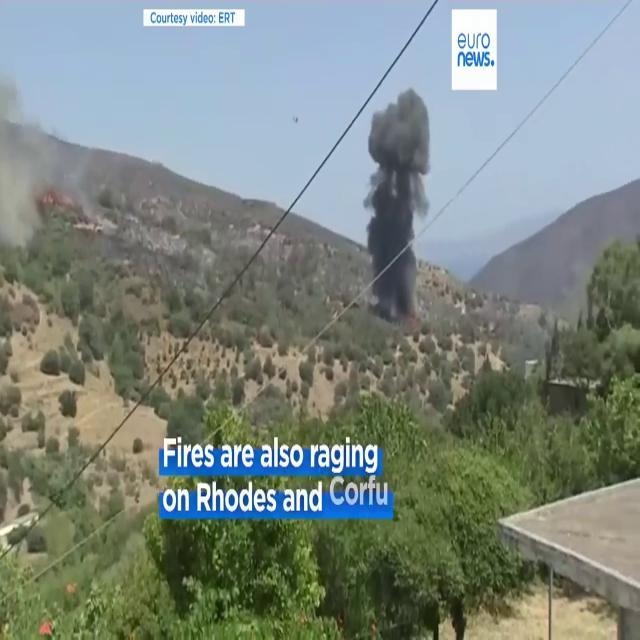Smoke: (363, 86, 431, 314), (0, 19, 61, 258), (0, 73, 56, 271)
